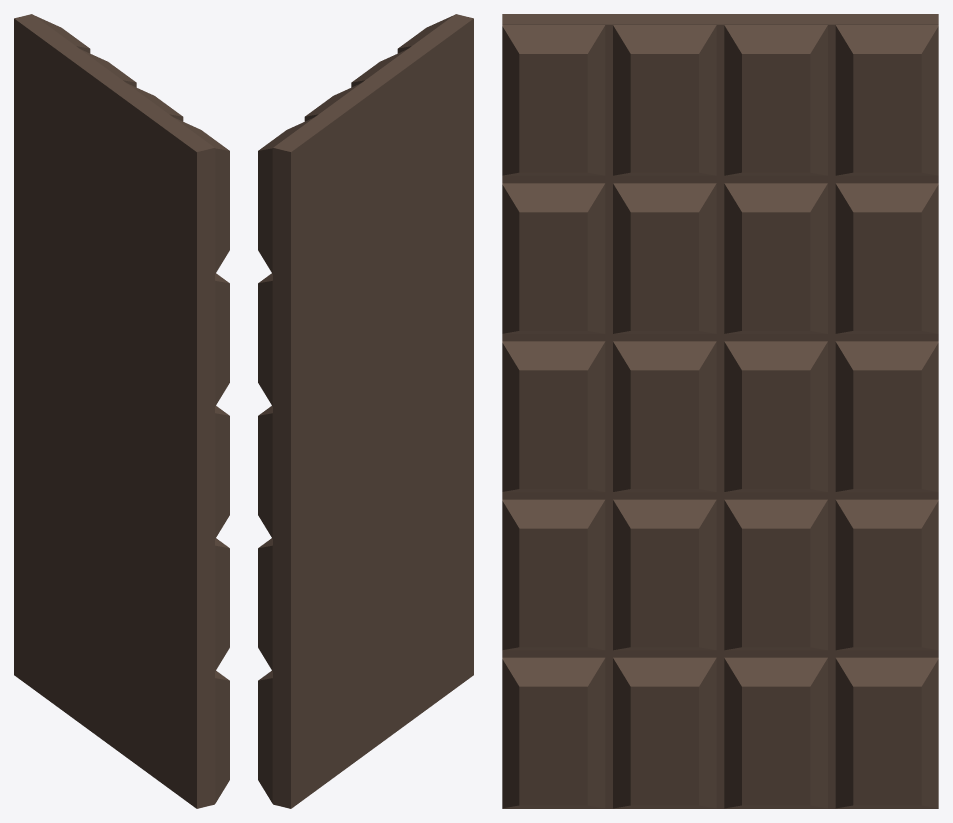
Rendered from simready-food_processed_chocolate_a01.glb.
3 renders of one model, left to right at view 1: azimuth 30°, elevation 25°; view 2: azimuth 150°, elevation 25°; view 3: azimuth 270°, elevation 25°, orthographic. The views are drawn at different scales.
Parts seen in each view (by area): view 1: backing; view 2: backing; view 3: backing.
Boxes of the visible parts, x1,y1,x2,y2 form: backing: (14, 14, 229, 808); backing: (258, 14, 473, 808); backing: (502, 14, 938, 808).
Bounding box in the file's own units: 0.0178 × 0.2777 × 0.1401.
